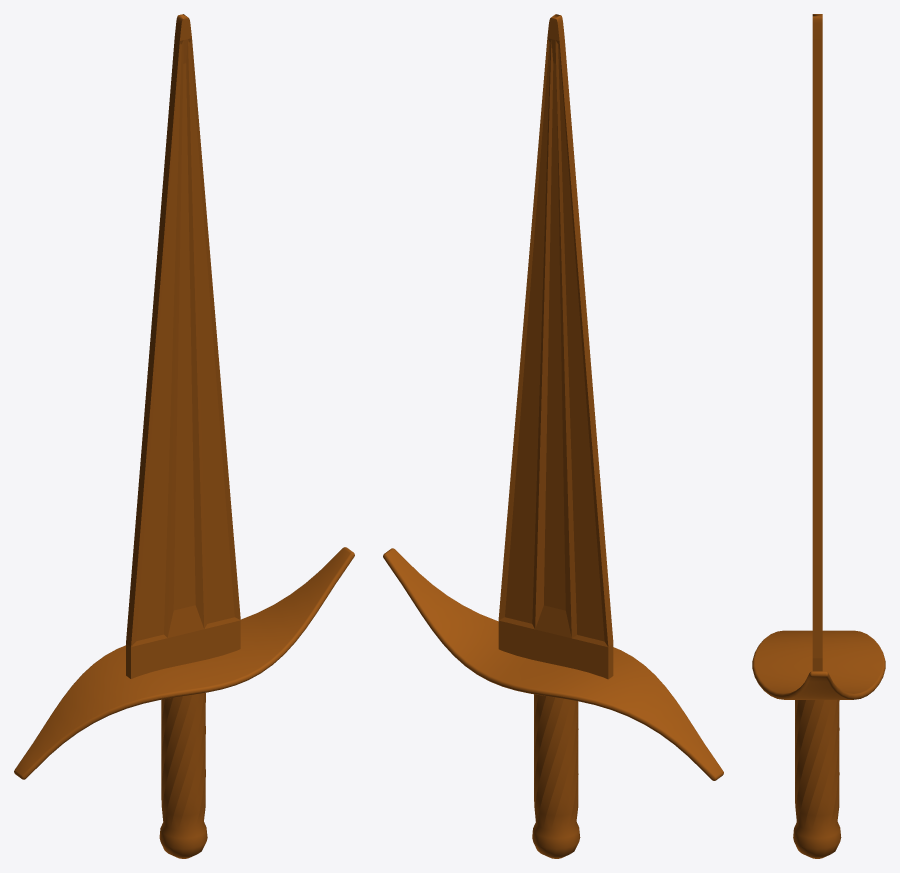
File: Daga.fbx
The picture shows the model from 3 angles, left to right: view 1: azimuth 30°, elevation 25°; view 2: azimuth 150°, elevation 25°; view 3: azimuth 270°, elevation 25°; orthographic projection.
Visible parts, largest first — view 1: Cylinder; view 2: Cylinder; view 3: Cylinder.
Boxes of the visible parts, x1,y1,x2,y2 form: Cylinder: (14, 14, 354, 858); Cylinder: (383, 14, 723, 858); Cylinder: (752, 14, 885, 858).
Size of the model in its own units: 0.3324 by 0.7992 by 0.1147.
